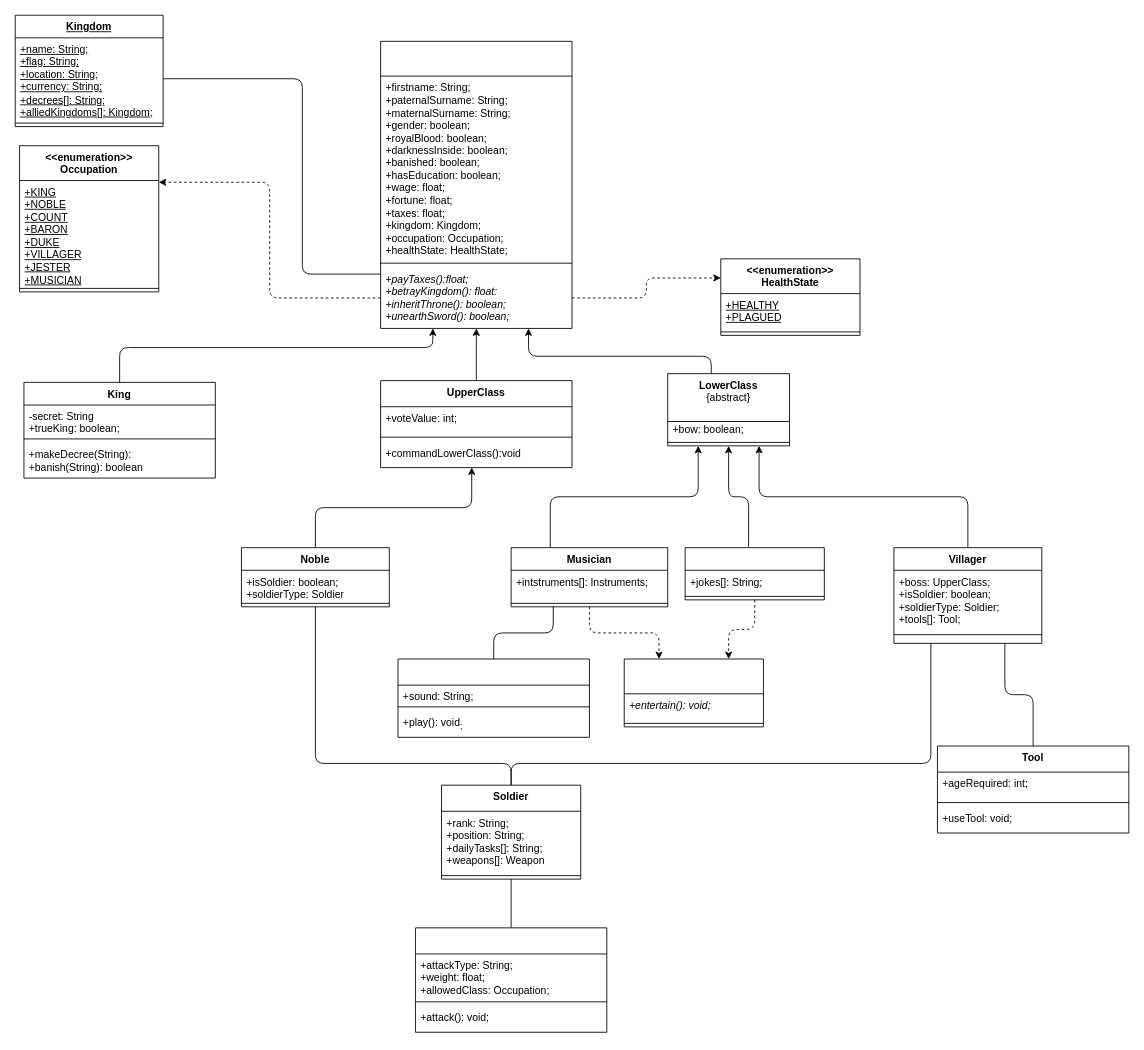
The diagram is 1144 pixels wide and 1050 high, and some of its shapes have lost their labels. The box of each missing label's shape, as (x1, y1, x2, y2) in pixels:
<<interface>> Artist: (623, 658, 763, 727)
Instrument: (397, 658, 589, 737)
Jester: (684, 547, 824, 600)
Person {abstract}: (380, 40, 572, 328)
Weapon: (415, 927, 607, 1032)
